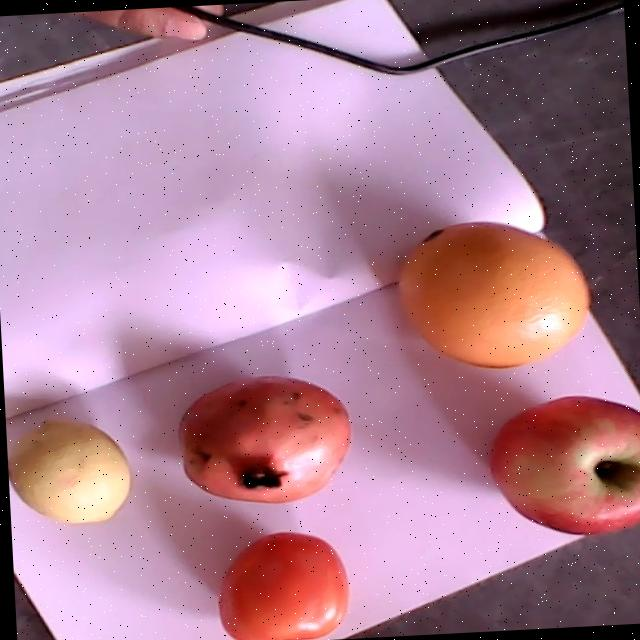apple: (489, 396, 640, 536)
lemon: (8, 421, 132, 527)
orange: (396, 222, 589, 368)
pomegranate: (177, 375, 352, 504)
tomato: (220, 534, 347, 640)
